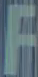Parking: (6, 3, 36, 76)
